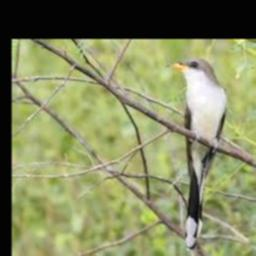Cuckoo: (166, 58, 228, 248)
